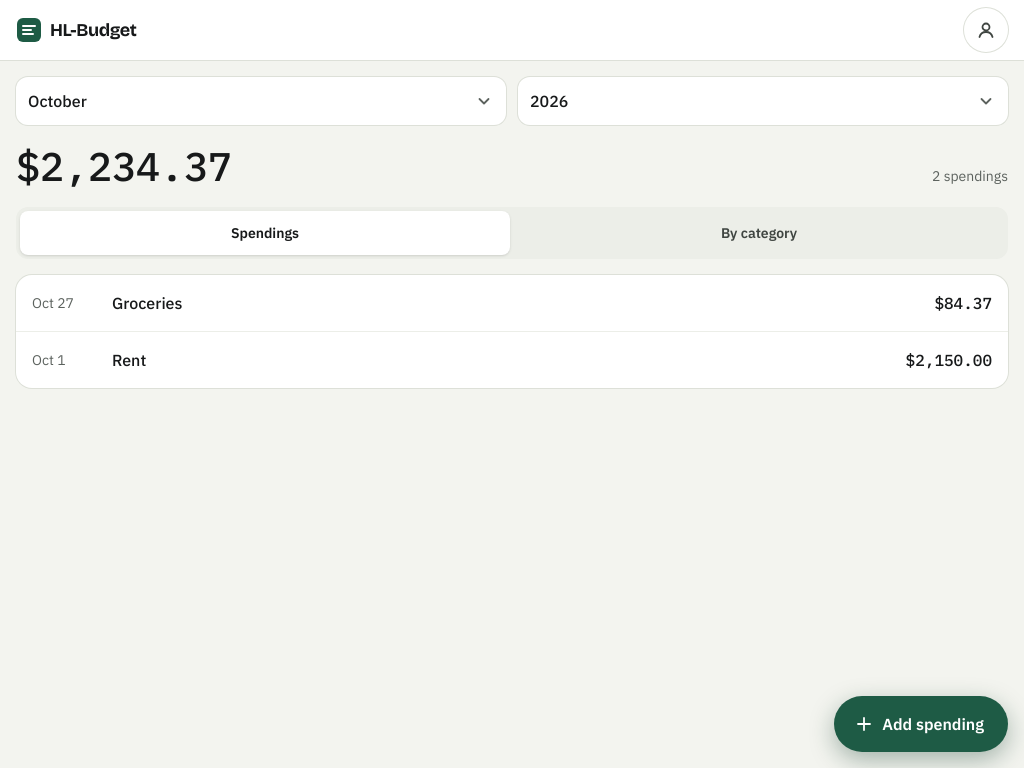
Test: PhoneApp › goes from the menu to Settings and back to the list
This screenshot has width=1024, height=768.
Click the button named "Account menu": coordinates (986, 30) [964,8,1008,52]
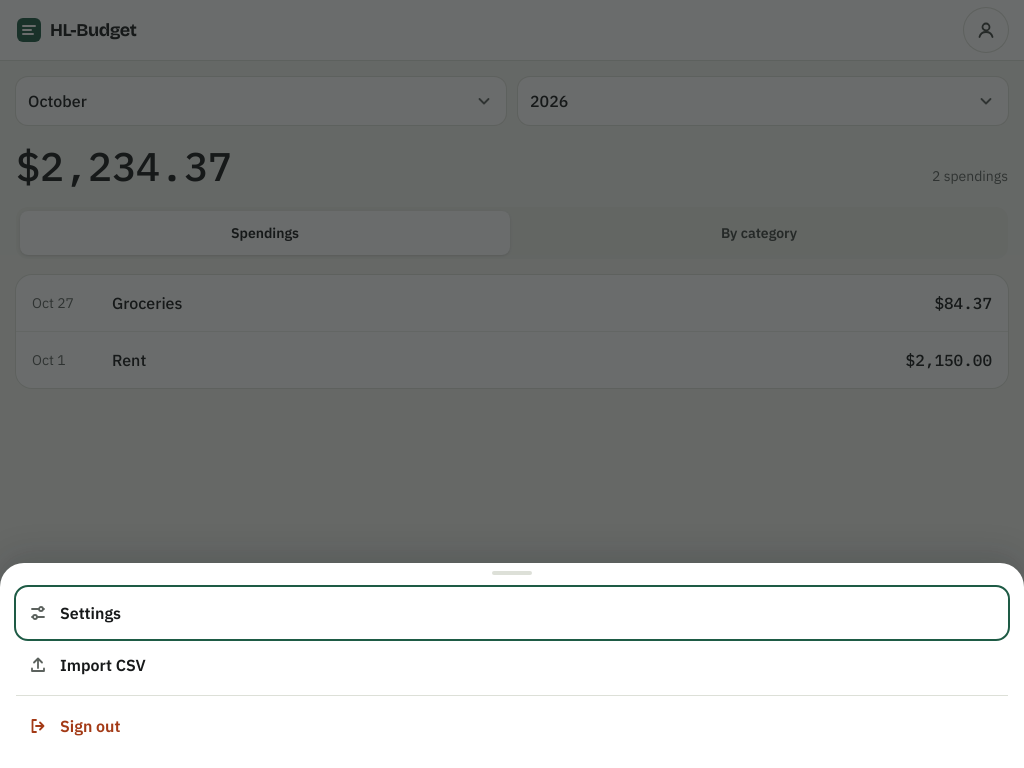
Click the button "Settings": coordinates (91, 613) [16,587,1008,639]
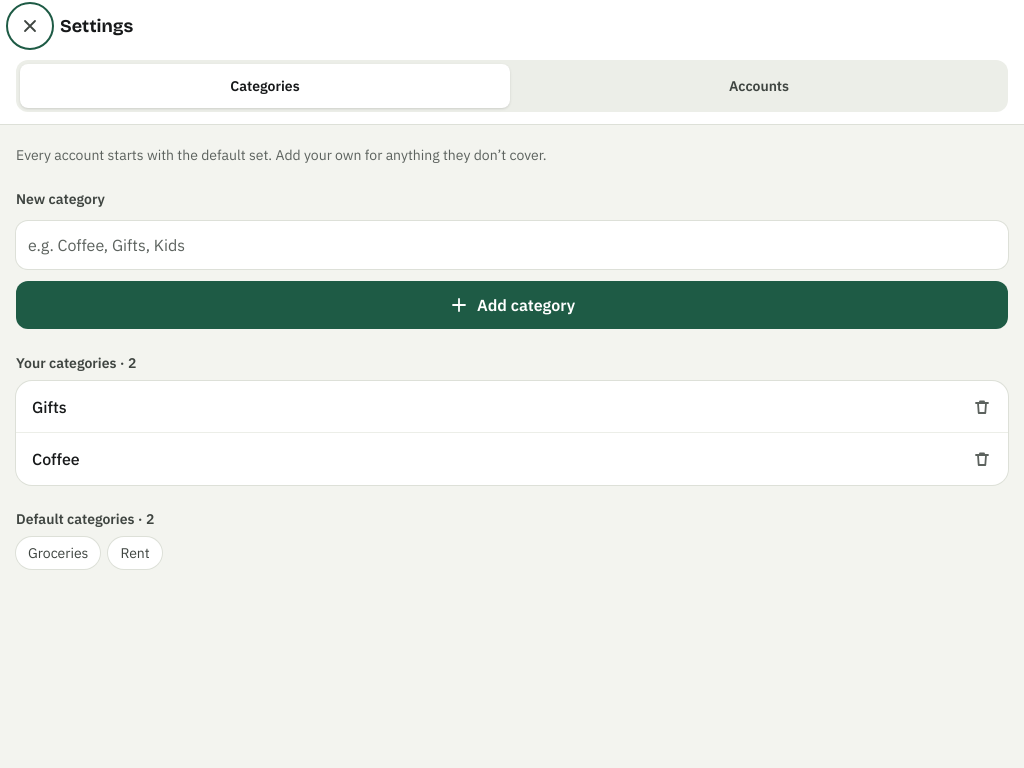
Now the dialog "Settings" is shown
Click the button named "Close settings": coordinates (30, 26) [8,4,52,48]
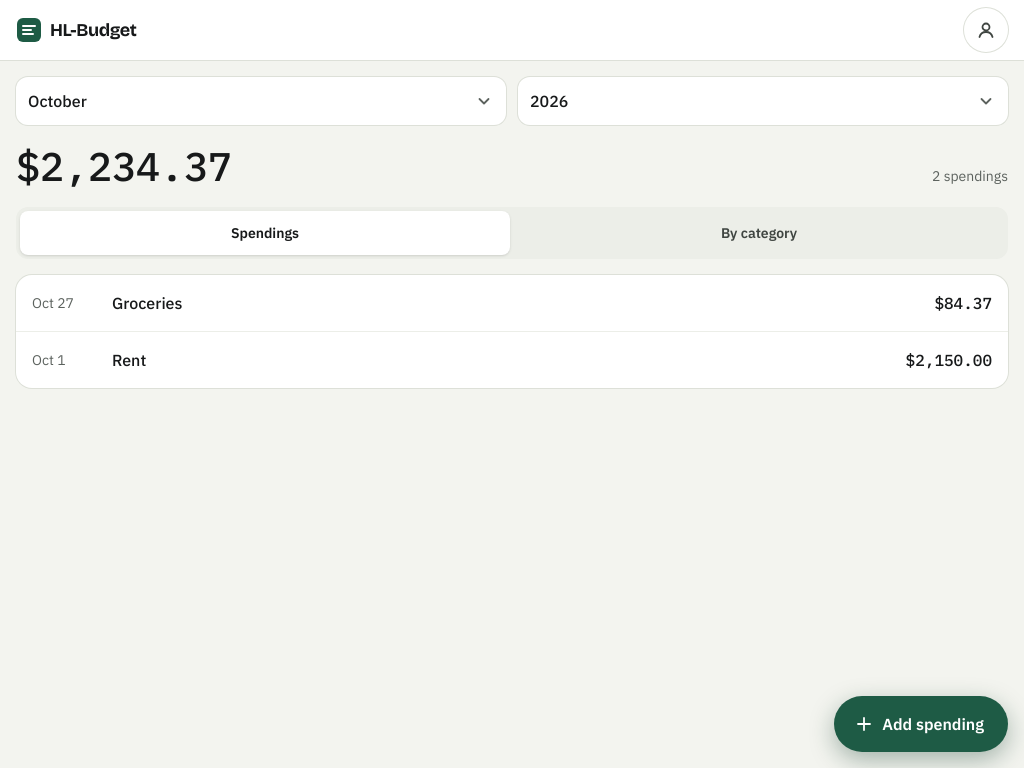
Now the dialog is gone
